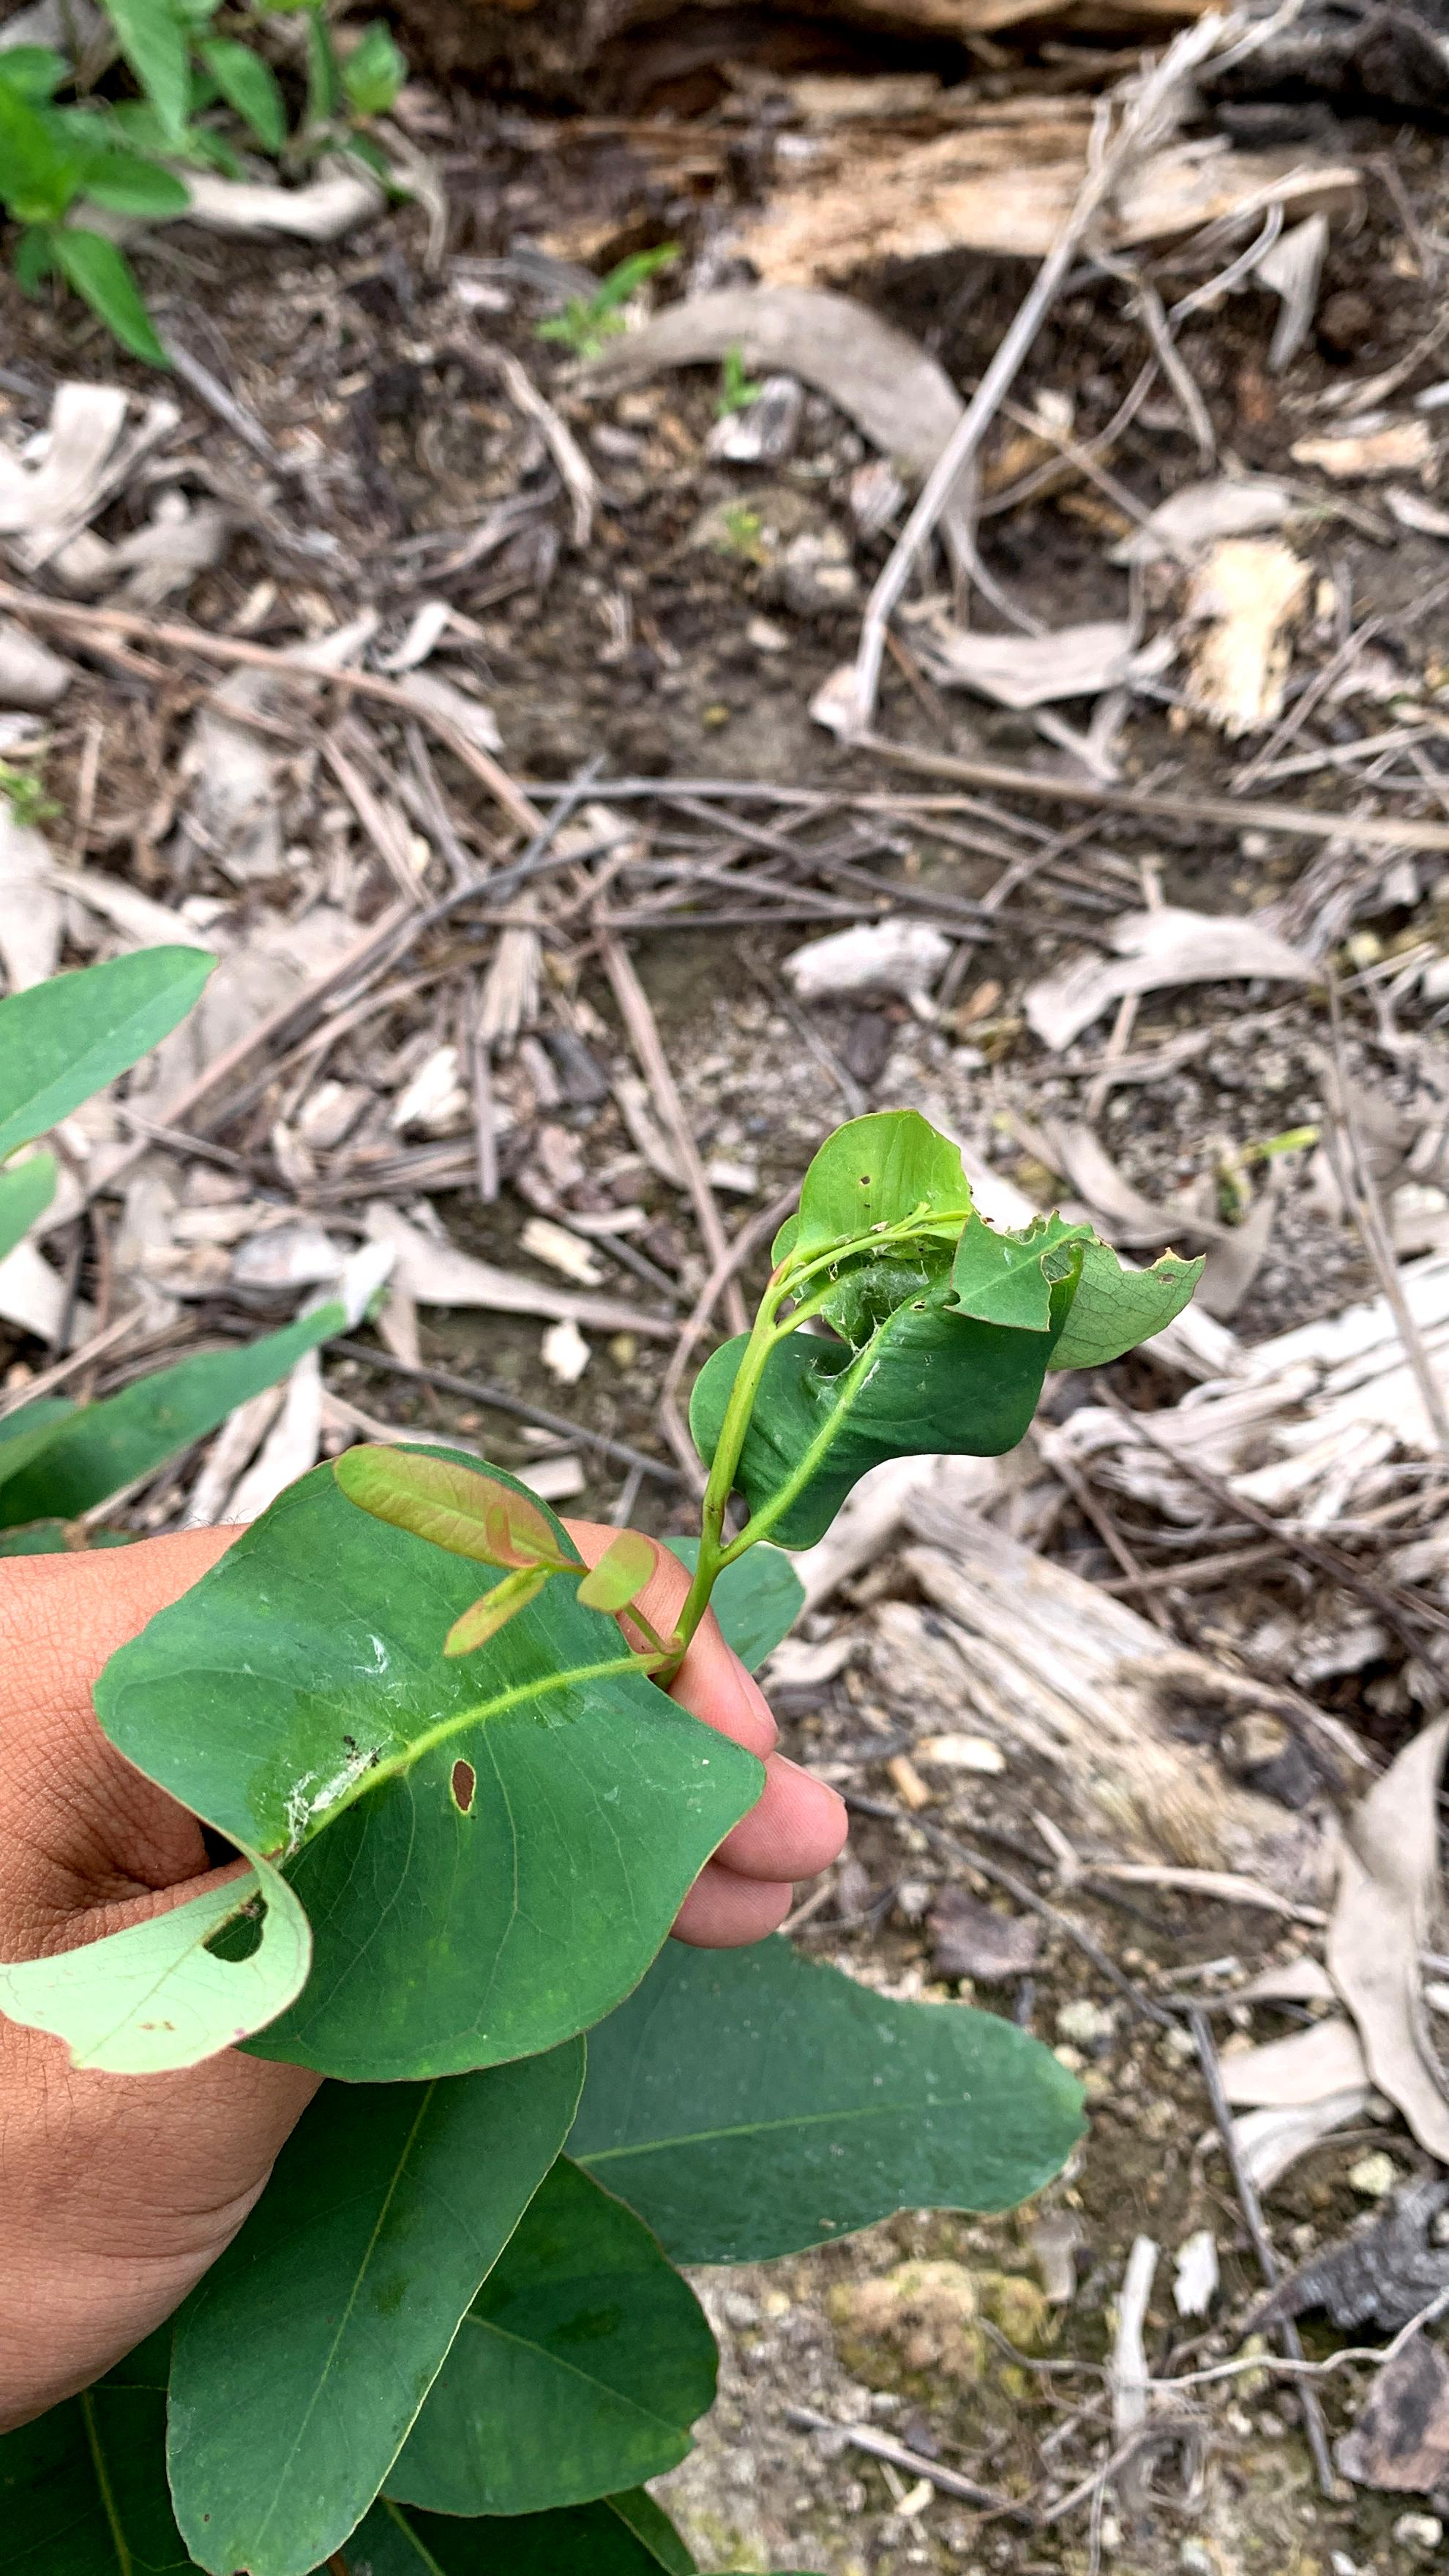Leaf Roller - Leaf: (670, 1077, 1150, 1623)
